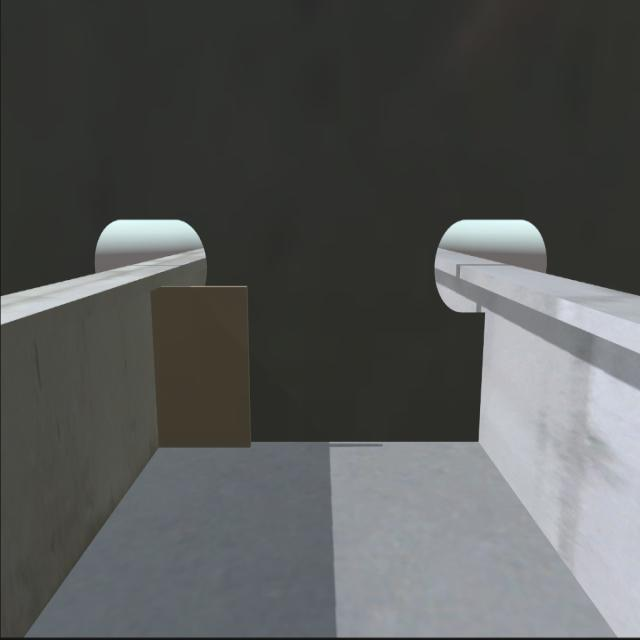fillet_yong_jeop_jang: (154, 432, 481, 449)
longi_yong_jeop_jang: (144, 289, 164, 445), (476, 312, 489, 443)
plate_CP01: (153, 285, 258, 448)
